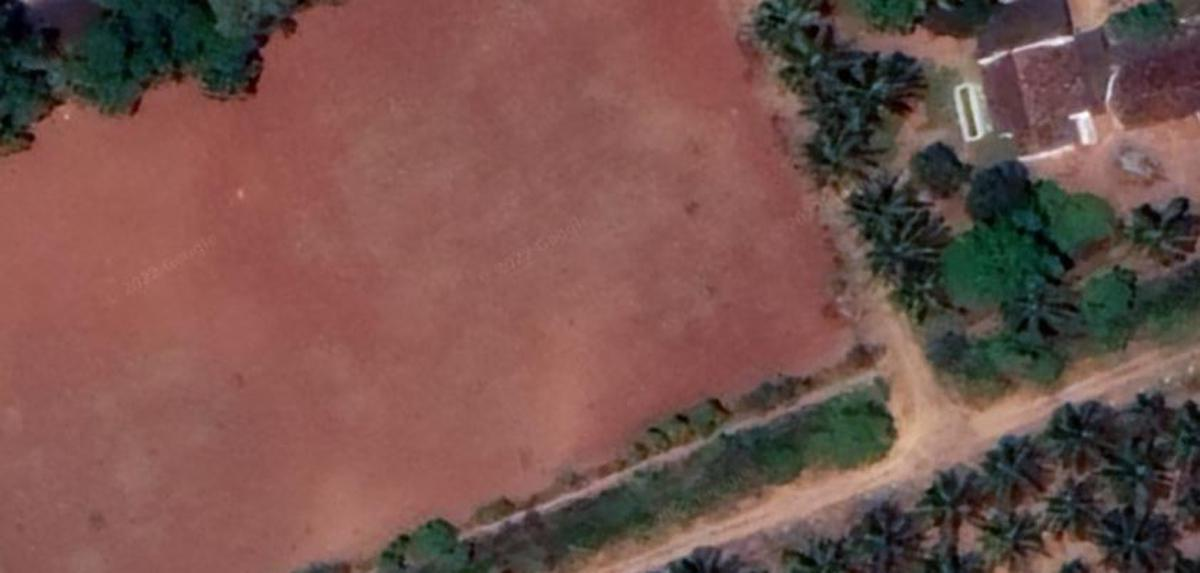coconut: (1094, 488, 1187, 568), (1117, 399, 1200, 480), (775, 25, 862, 98), (833, 54, 926, 116), (979, 501, 1053, 567), (1125, 193, 1191, 266), (1056, 397, 1121, 471), (986, 431, 1051, 500), (857, 506, 929, 568), (753, 2, 835, 51), (1001, 279, 1087, 324), (805, 138, 879, 189), (1047, 477, 1105, 541), (849, 186, 933, 229), (889, 269, 956, 320), (933, 460, 986, 523), (860, 230, 934, 275), (789, 540, 855, 570)
